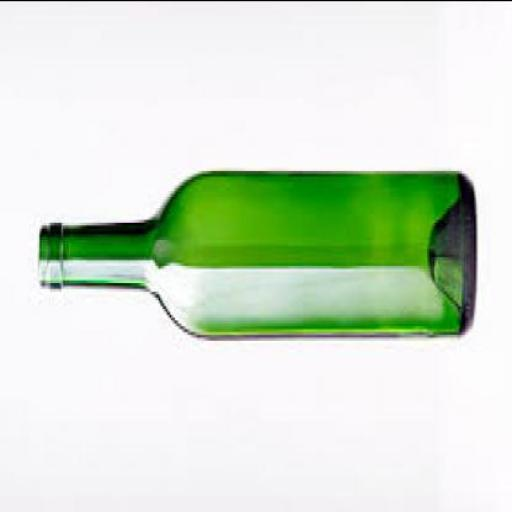glass: (38, 175, 474, 339)
